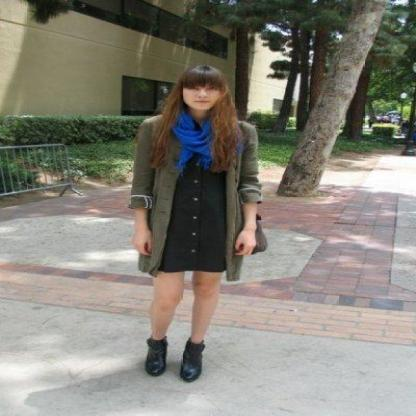dress: (157, 160, 228, 272)
jacket: (119, 115, 266, 280)
shoe: (144, 336, 204, 382)
